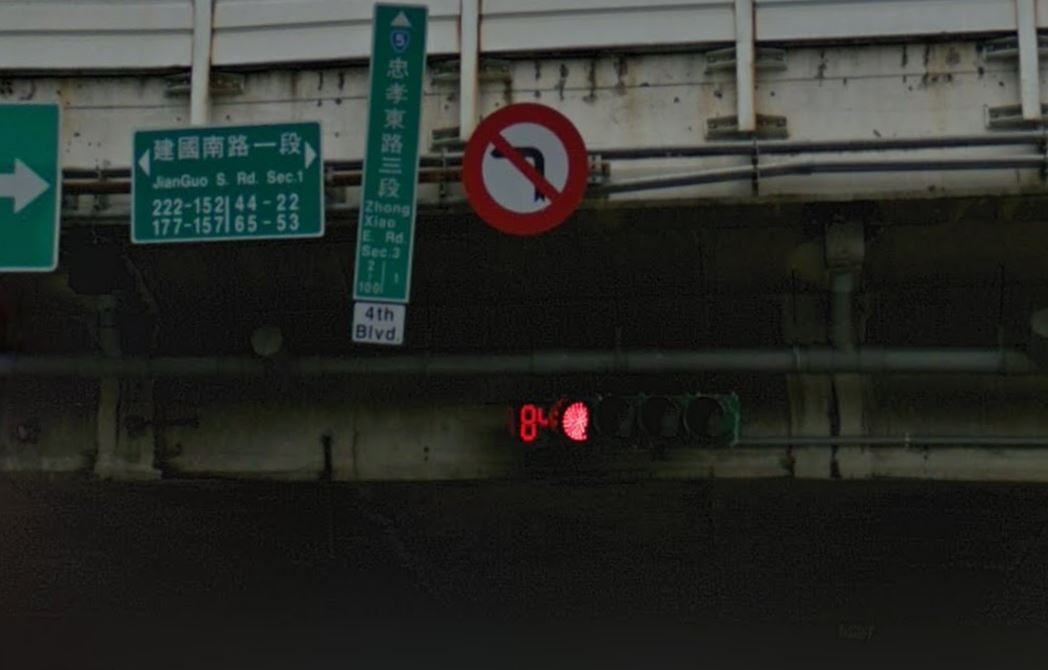No_left_turn: (461, 102, 588, 234)
Traffic_light_red: (509, 390, 736, 441)
